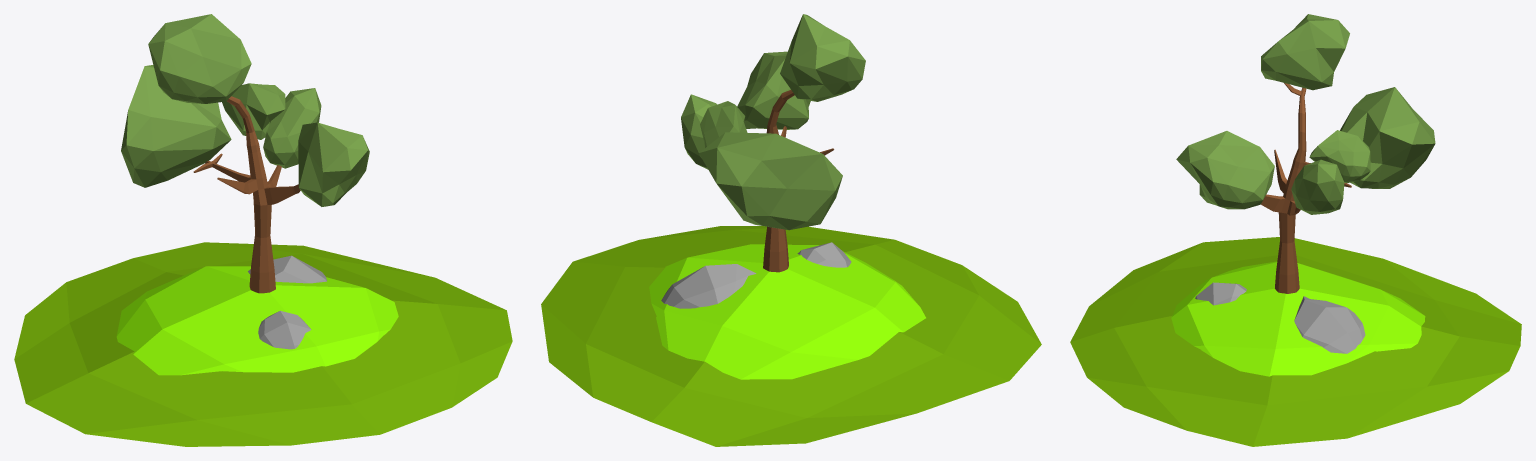
Rendered from arbol3.glb.
3 views of the same model, side by side, from view 1: azimuth 30°, elevation 25°; view 2: azimuth 150°, elevation 25°; view 3: azimuth 270°, elevation 25° (orthographic). The views are drawn at different scales.
Visible parts, largest first — view 1: grass.002, leaves, grass, bark, grass.001; view 2: grass.002, grass, leaves, grass.001, bark; view 3: grass.002, leaves, grass, grass.001, bark.
Boxes of the visible parts, bbox=[...] form: grass.002: bbox=[14, 242, 512, 446]; leaves: bbox=[121, 14, 369, 206]; grass: bbox=[116, 266, 398, 375]; bark: bbox=[193, 96, 300, 293]; grass.001: bbox=[248, 255, 326, 349]; grass.002: bbox=[541, 226, 1041, 446]; grass: bbox=[649, 244, 925, 379]; leaves: bbox=[681, 14, 865, 230]; grass.001: bbox=[661, 242, 851, 308]; bark: bbox=[763, 90, 834, 272]; grass.002: bbox=[1070, 237, 1521, 446]; leaves: bbox=[1176, 14, 1435, 214]; grass: bbox=[1171, 261, 1425, 376]; grass.001: bbox=[1195, 282, 1365, 353]; bark: bbox=[1261, 83, 1351, 293].
Bounding box in the file's own units: 5.09 × 3.65 × 4.73.
